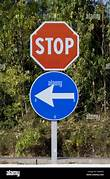stop: (30, 20, 80, 72)
